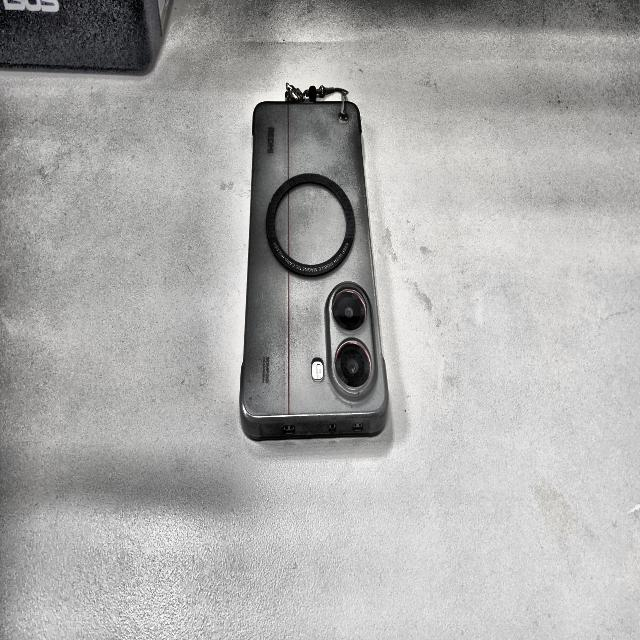PHONE: (240, 101, 388, 440)
